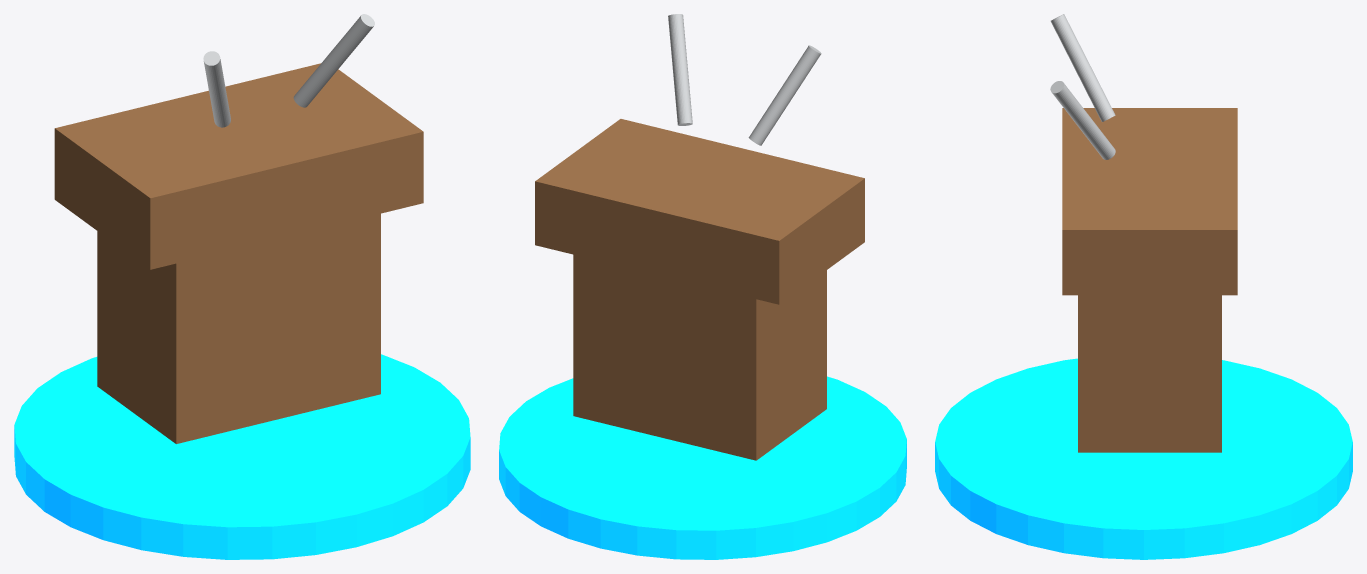
Rendered from news_podium.glb.
The picture shows the model from 3 angles, left to right: view 1: azimuth 30°, elevation 25°; view 2: azimuth 150°, elevation 25°; view 3: azimuth 270°, elevation 25°; orthographic projection. The views are drawn at different scales.
Parts seen in each view (by area): view 1: 09_19_Popular_News_Podium_ROOT_base, 09_19_Popular_News_Podium_part_02, 09_19_Popular_News_Podium_part_01, 09_19_Popular_News_Podium_part_04, 09_19_Popular_News_Podium_part_03; view 2: 09_19_Popular_News_Podium_ROOT_base, 09_19_Popular_News_Podium_part_02, 09_19_Popular_News_Podium_part_01, 09_19_Popular_News_Podium_part_04, 09_19_Popular_News_Podium_part_03; view 3: 09_19_Popular_News_Podium_ROOT_base, 09_19_Popular_News_Podium_part_02, 09_19_Popular_News_Podium_part_01, 09_19_Popular_News_Podium_part_03, 09_19_Popular_News_Podium_part_04.
Boxes of the visible parts, x1,y1,x2,y2 form: 09_19_Popular_News_Podium_ROOT_base: (14, 354, 470, 559); 09_19_Popular_News_Podium_part_02: (54, 63, 423, 269); 09_19_Popular_News_Podium_part_01: (97, 213, 380, 443); 09_19_Popular_News_Podium_part_04: (293, 14, 374, 107); 09_19_Popular_News_Podium_part_03: (203, 51, 230, 127); 09_19_Popular_News_Podium_ROOT_base: (499, 376, 906, 559); 09_19_Popular_News_Podium_part_02: (535, 119, 864, 304); 09_19_Popular_News_Podium_part_01: (573, 254, 826, 460); 09_19_Popular_News_Podium_part_04: (668, 14, 692, 125); 09_19_Popular_News_Podium_part_03: (748, 45, 821, 145); 09_19_Popular_News_Podium_ROOT_base: (935, 358, 1352, 559); 09_19_Popular_News_Podium_part_02: (1062, 108, 1237, 295); 09_19_Popular_News_Podium_part_01: (1078, 295, 1221, 452); 09_19_Popular_News_Podium_part_03: (1050, 14, 1115, 121); 09_19_Popular_News_Podium_part_04: (1050, 81, 1115, 159).
Size of the model in its own units: 0.76 by 0.85 by 0.76.
